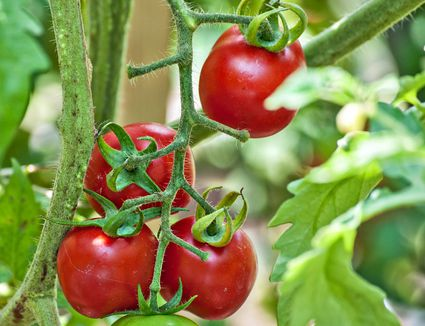tomato: (198, 22, 304, 137), (87, 120, 198, 219), (160, 217, 260, 319), (57, 217, 156, 312)
